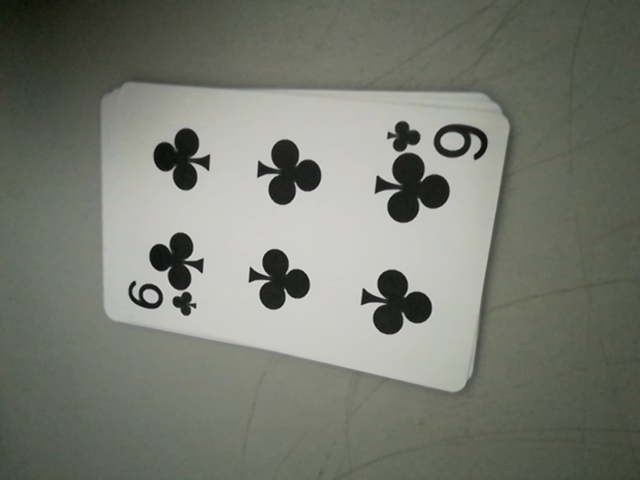mh 6: (387, 118, 494, 160), (122, 281, 199, 323)
